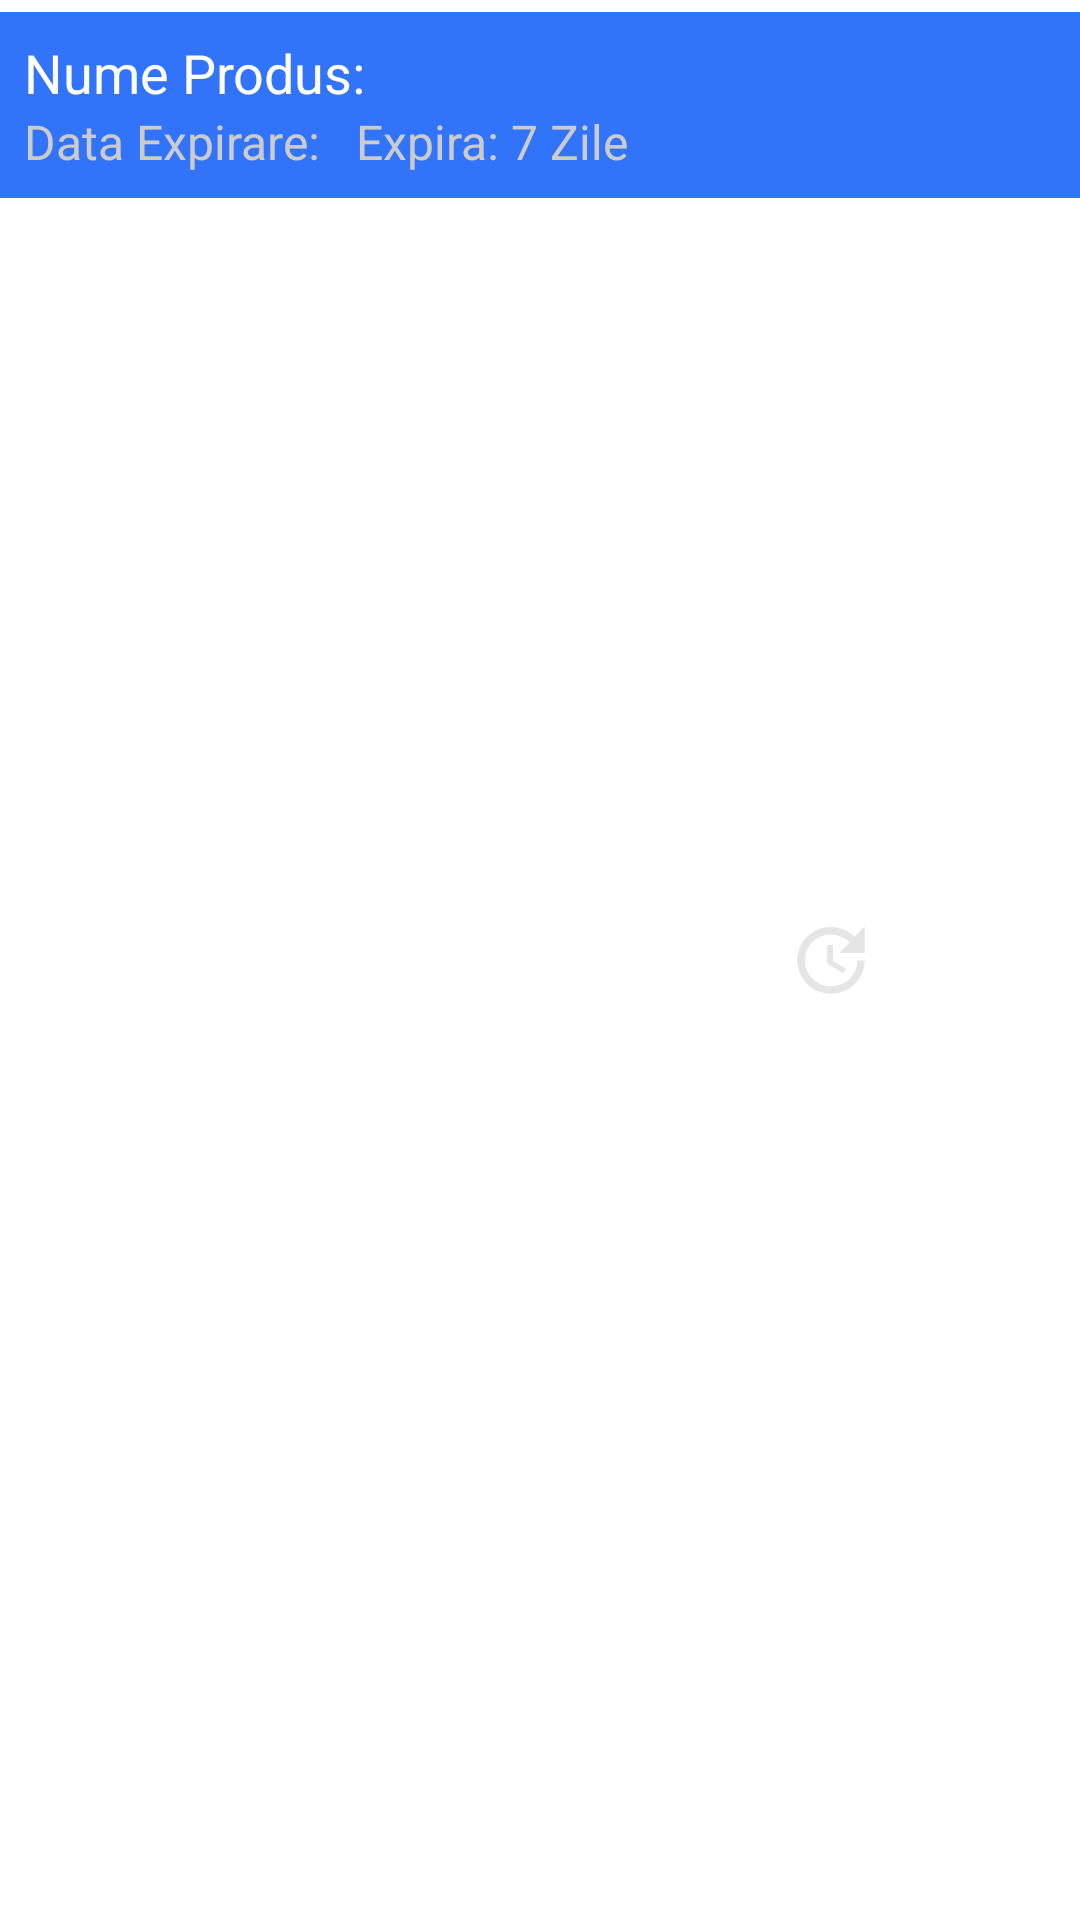

Screen size 1080*1920. Icon name, then its box in pixels as (x1, y1, x2, y2):
actualizare: (798, 927, 864, 993)
